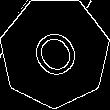O_SE: (23, 19, 87, 86)
